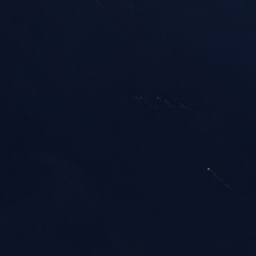Marine Debris: (130, 94, 201, 114), (206, 167, 212, 172)
